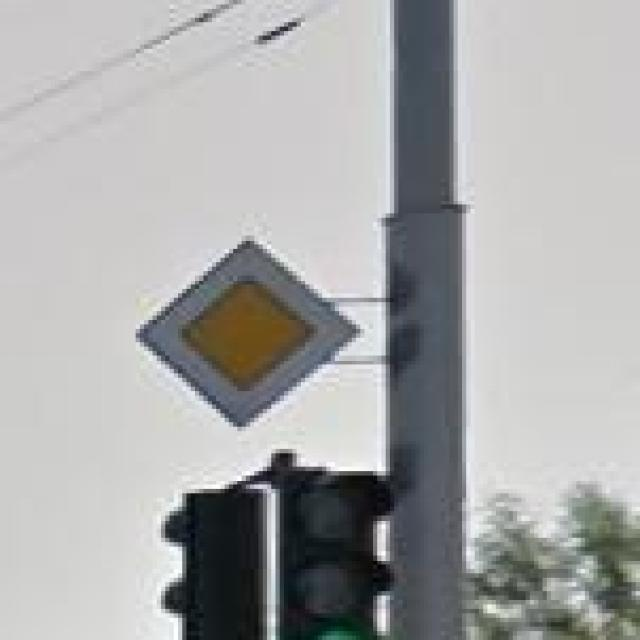traffic_sign: (136, 236, 360, 427)
